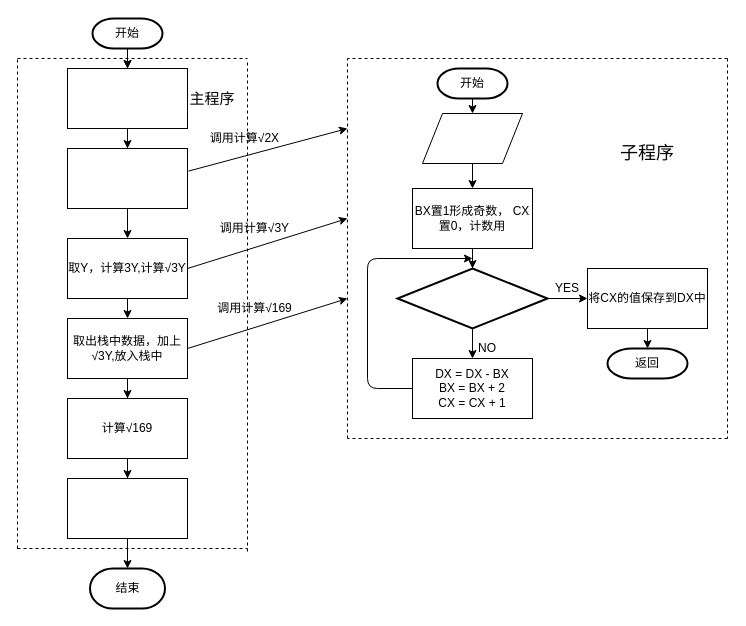
Image size: 746x626. Some labels were removed from this diagram. The centre of each missing label's shape, as x and y in pixels:
"DX = 0 ？" goes at (x=472, y=298).
"传入的值放入 DX中" goes at (x=472, y=138).
"取X，计算2X,计算√2X ,放入栈中" goes at (x=127, y=178).
"取出栈中数据，加上√169，放入RLT中" goes at (x=127, y=508).
"将数据段基址赋值给DS,栈段基址赋值给SS" goes at (x=127, y=98).
